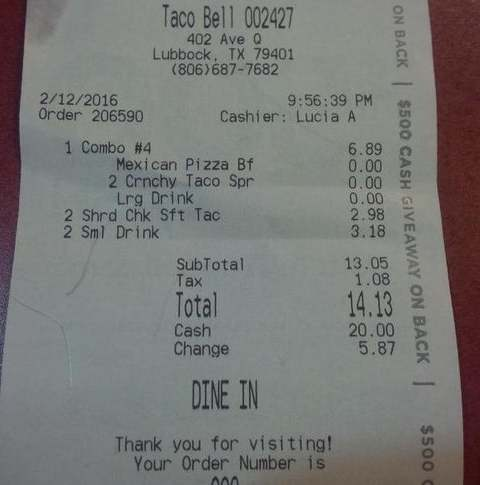Taco Bell: (157, 1, 237, 28)
